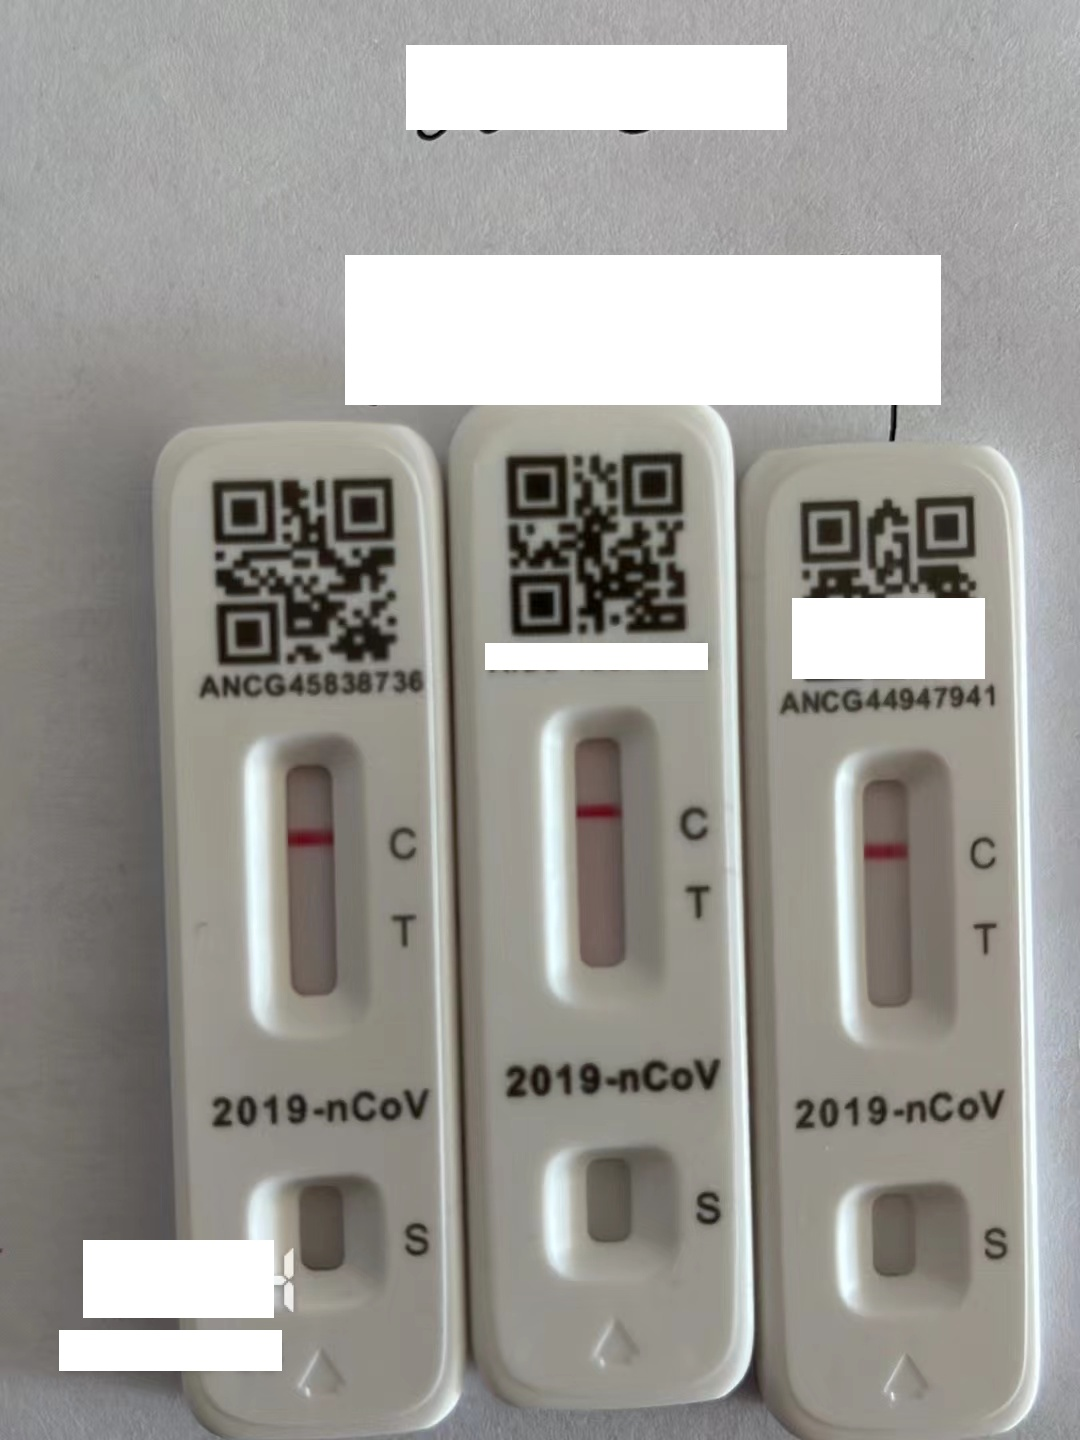negative: (247, 739, 368, 1049), (836, 749, 953, 1064), (546, 704, 664, 1011)
